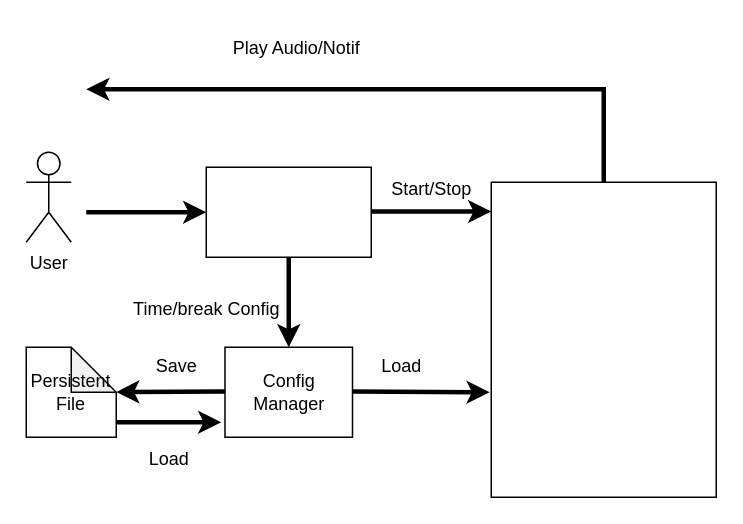
This 743x524 diagram has some shape labels left out. Each missing label, with the centre of its shape:
CLI: the point at 288,211
Timer: the point at 603,339
